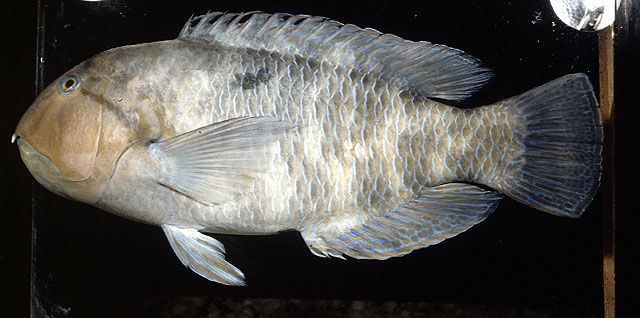fish: (15, 12, 605, 286)
